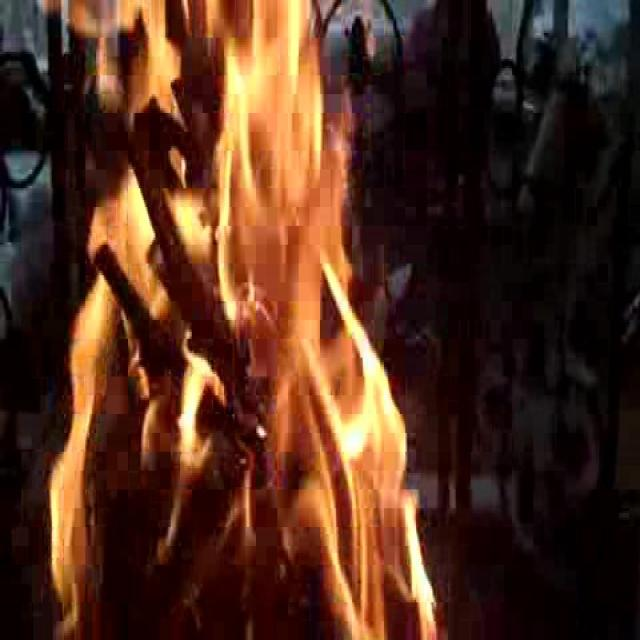Fire: (47, 5, 402, 640)
